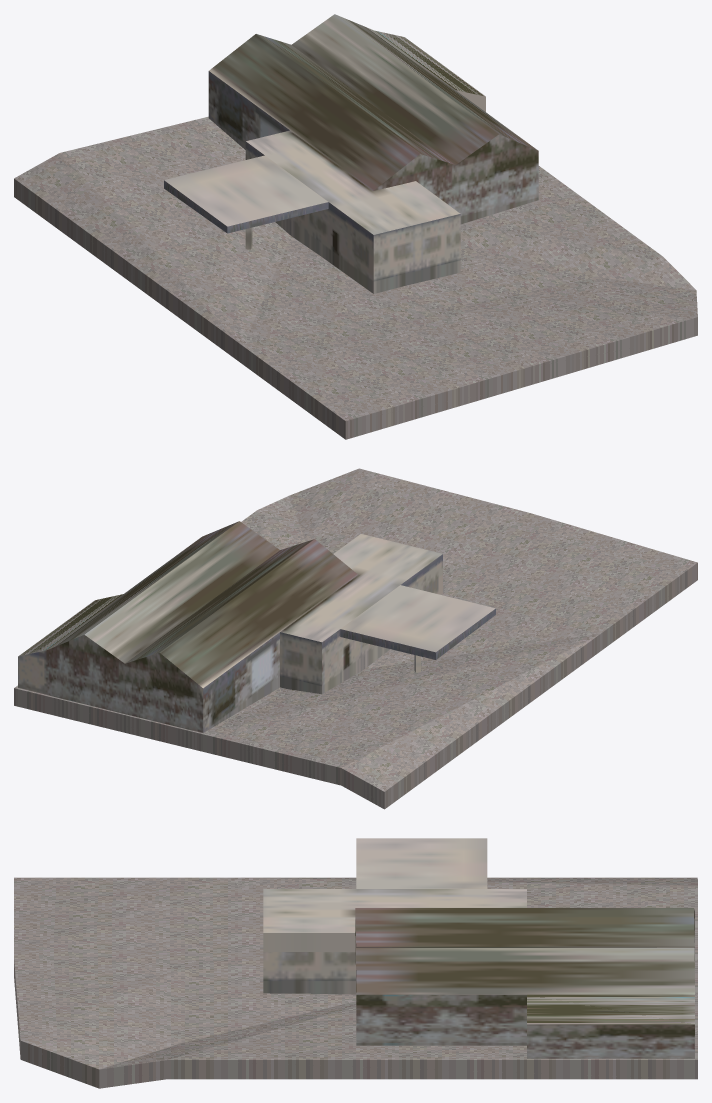
Rendered from lod_hubgarage.obj.
3 views of the same model, one above another, from view 1: azimuth 30°, elevation 25°; view 2: azimuth 150°, elevation 25°; view 3: azimuth 270°, elevation 25° (orthographic). The views are drawn at different scales.
Parts seen in each view (by area): view 1: LOD_hubGARAGE; view 2: LOD_hubGARAGE; view 3: LOD_hubGARAGE.
Part boxes in pixels (box(x1,y1,x2,y2)): LOD_hubGARAGE: box(14, 14, 697, 439); LOD_hubGARAGE: box(14, 468, 697, 809); LOD_hubGARAGE: box(14, 838, 697, 1088).
Size of the model in its own units: 44.13 by 11.41 by 64.68.
Materials: 3 (3 with a texture image).
